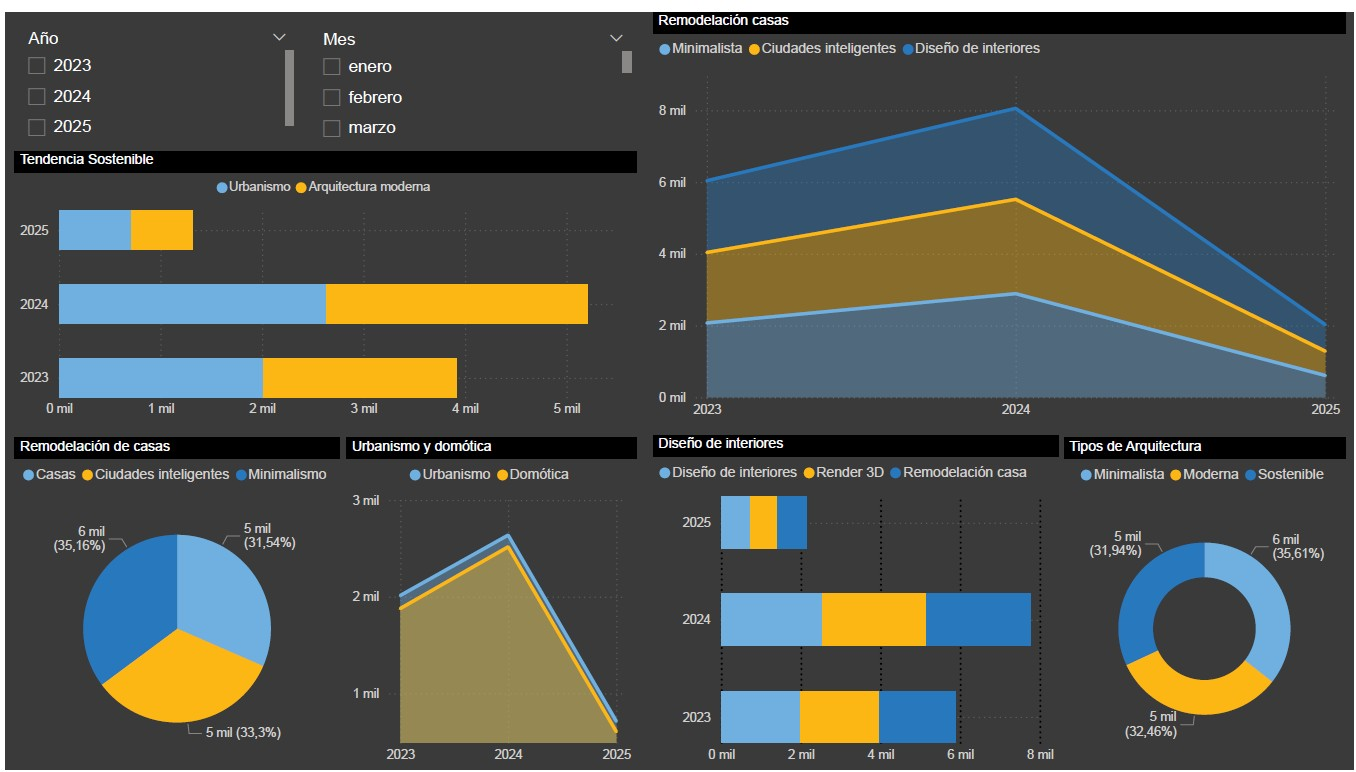

Layout of this report page (visuals, bound fields, positions):
{"tool":"powerbi","page":{"name":"Página 1","canvas":[1280,720],"ordinal":0},"visuals":[{"type":"donutChart","title":"Tipos de Arquitectura ","fields":{"Y":["Sum(tendencias_arquitectura_simuladas_actualizado.arquitectura minimalista)","Sum(tendencias_arquitectura_simuladas_actualizado.arquitectura moderna)","Sum(tendencias_arquitectura_simuladas_actualizado.arquitectura sostenible)"]},"box":[1005.2,403.5,266.6,316.7],"z":1000},{"type":"pieChart","title":"Remodelación de casas","fields":{"Y":["Sum(tendencias_arquitectura_simuladas_actualizado.casas pequeñas)","Sum(tendencias_arquitectura_simuladas_actualizado.ciudades inteligentes)","Sum(tendencias_arquitectura_simuladas_actualizado.arquitectura minimalista)"]},"box":[8.6,403.5,308.2,316.7],"z":2000},{"type":"barChart","title":"Diseño de interiores ","fields":{"Category":["tendencias_arquitectura_simuladas_actualizado.fecha.Variación.Jerarquía de fechas.Año"],"Y":["Sum(tendencias_arquitectura_simuladas_actualizado.diseño de interiores)","Sum(tendencias_arquitectura_simuladas_actualizado.render 3D)","Sum(tendencias_arquitectura_simuladas_actualizado.remodelación casa)"]},"box":[615.2,402.3,384.8,317.6],"z":3000},{"type":"slicer","fields":{"Values":["tendencias_arquitectura_simuladas_actualizado.fecha.Variación.Jerarquía de fechas.Año"]},"box":[8.6,11,270.2,112.5],"z":4000},{"type":"areaChart","title":"Urbanismo y domótica","fields":{"Y":["Sum(tendencias_arquitectura_simuladas_actualizado.urbanismo)","Sum(tendencias_arquitectura_simuladas_actualizado.domótica)"],"Category":["tendencias_arquitectura_simuladas_actualizado.fecha.Variación.Jerarquía de fechas.Año"]},"box":[324.1,403.5,275.1,316.7],"z":5000},{"type":"stackedAreaChart","title":"Remodelación casas","fields":{"Category":["tendencias_arquitectura_simuladas_actualizado.fecha.Variación.Jerarquía de fechas.Año"],"Y":["Sum(tendencias_arquitectura_simuladas_actualizado.arquitectura minimalista)","Sum(tendencias_arquitectura_simuladas_actualizado.ciudades inteligentes)","Sum(tendencias_arquitectura_simuladas_actualizado.diseño de interiores)"]},"box":[615.1,0,656.7,392.5],"z":6000},{"type":"slicer","fields":{"Values":["tendencias_arquitectura_simuladas_actualizado.fecha.Variación.Jerarquía de fechas.Mes"]},"box":[288.6,12.2,310.6,111.3],"z":7000},{"type":"barChart","title":"Tendencia Sostenible","fields":{"Category":["tendencias_arquitectura_simuladas_actualizado.fecha.Variación.Jerarquía de fechas.Año"],"Y":["Sum(tendencias_arquitectura_simuladas_actualizado.urbanismo)","Sum(tendencias_arquitectura_simuladas_actualizado.arquitectura moderna)"]},"box":[8.6,132.1,590.6,260.5],"z":8001}]}

Visuals, with their boxes in screenshot pixels (x1, y1, x2, y2), scaled from the page's 1280x720 canvas onto the 1356x772 screenshot:
"Tipos de Arquitectura " donutChart: box=[1065, 433, 1347, 771]
"Remodelación de casas" pieChart: box=[9, 433, 336, 771]
"Diseño de interiores " barChart: box=[652, 431, 1059, 771]
slicer - tendencias_arquitectura_simuladas_actualizado.fecha.Variación.Jerarquía de fechas.Año: box=[9, 12, 295, 132]
"Urbanismo y domótica" areaChart: box=[343, 433, 635, 771]
"Remodelación casas" stackedAreaChart: box=[652, 0, 1347, 421]
slicer - tendencias_arquitectura_simuladas_actualizado.fecha.Variación.Jerarquía de fechas.Mes: box=[306, 13, 635, 132]
"Tendencia Sostenible" barChart: box=[9, 142, 635, 421]
